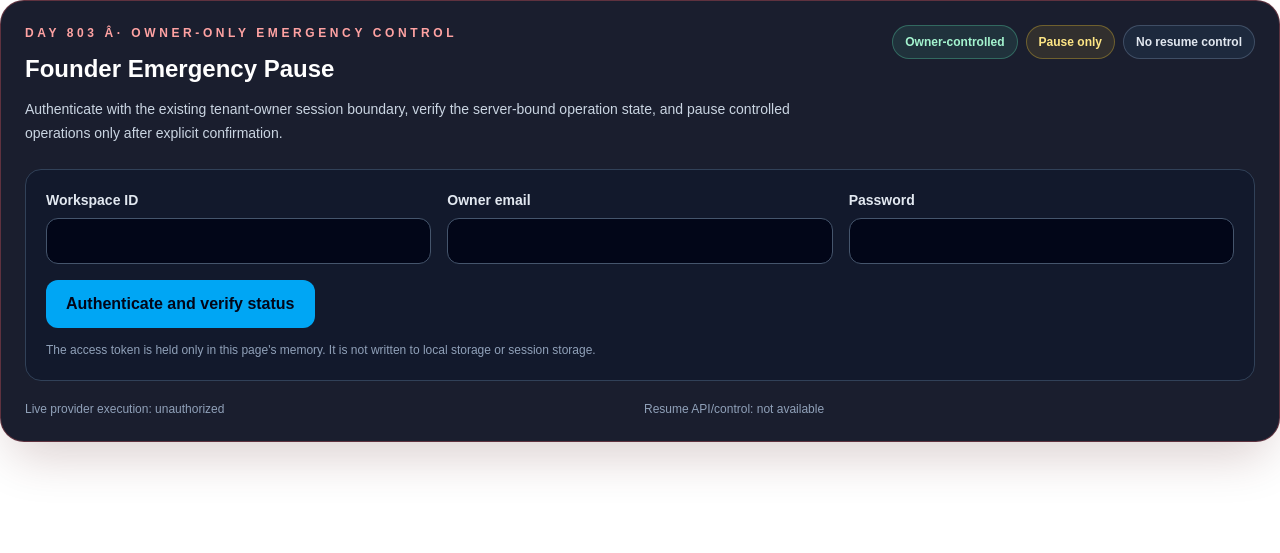
Test: NexusFounderEmergencyControl browser interaction › maps an unexpected authentication failure to a generic safe message
In the field labelled "Workspace ID": (239, 241) [46,218,431,264], type "tenant-a"
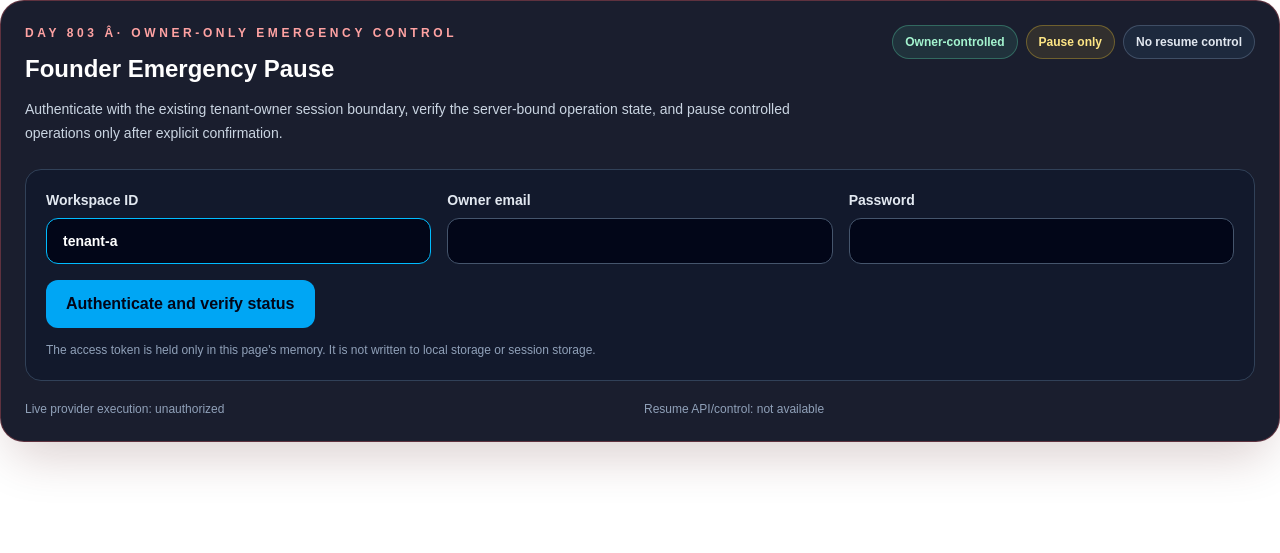
In the field labelled "Owner email": (640, 241) [447,218,833,264], type "owner@example.com"
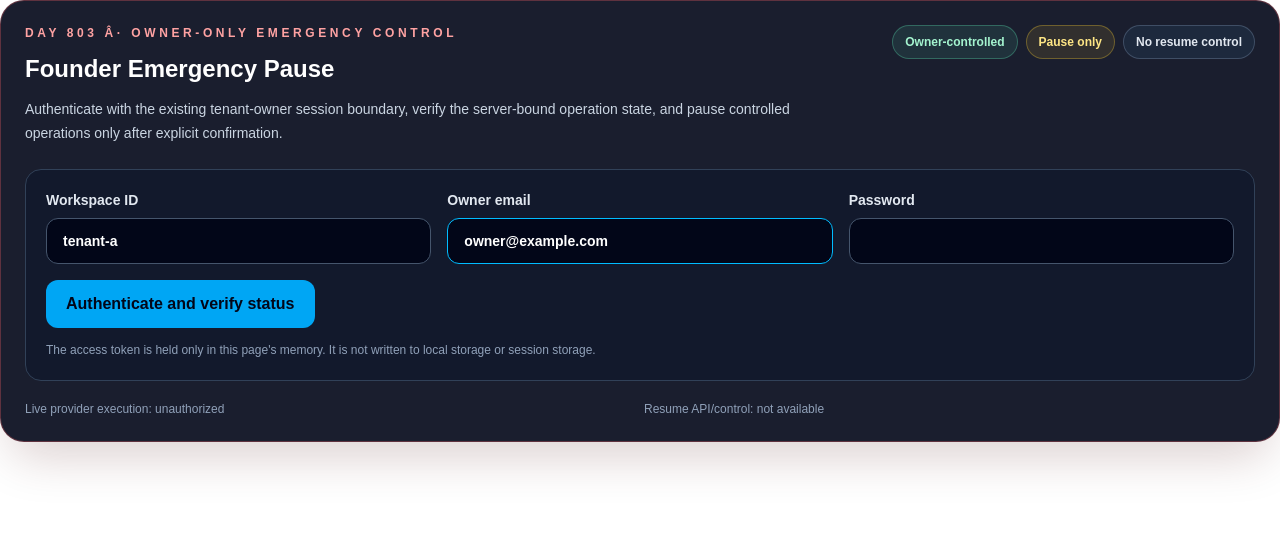
In the password field labelled "Password": (1041, 241) [849,218,1234,264], type "secret-password"
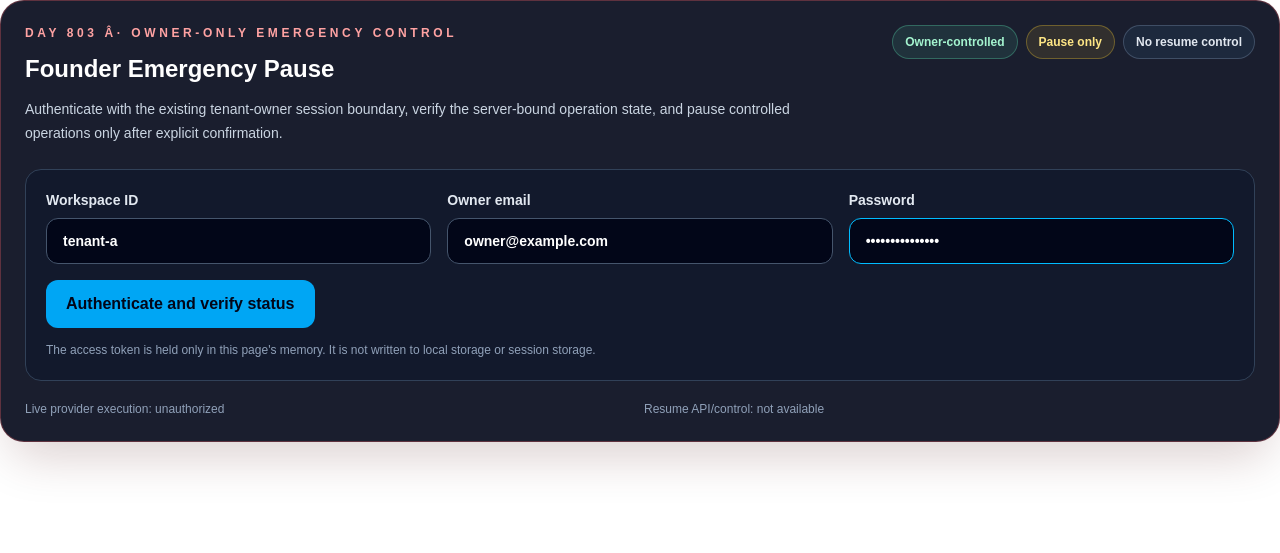
Click the button "Authenticate and verify status": click(180, 304) [46,280,314,328]
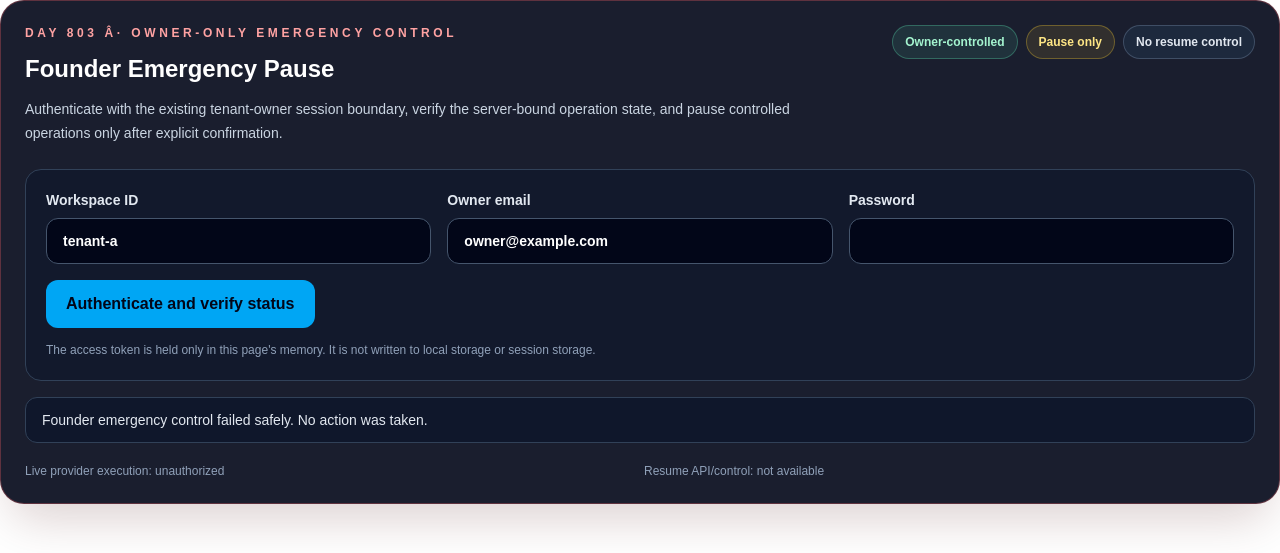
Expected: the text "Founder emergency control failed safely. No action was taken." is shown, [25,397,1255,443]
